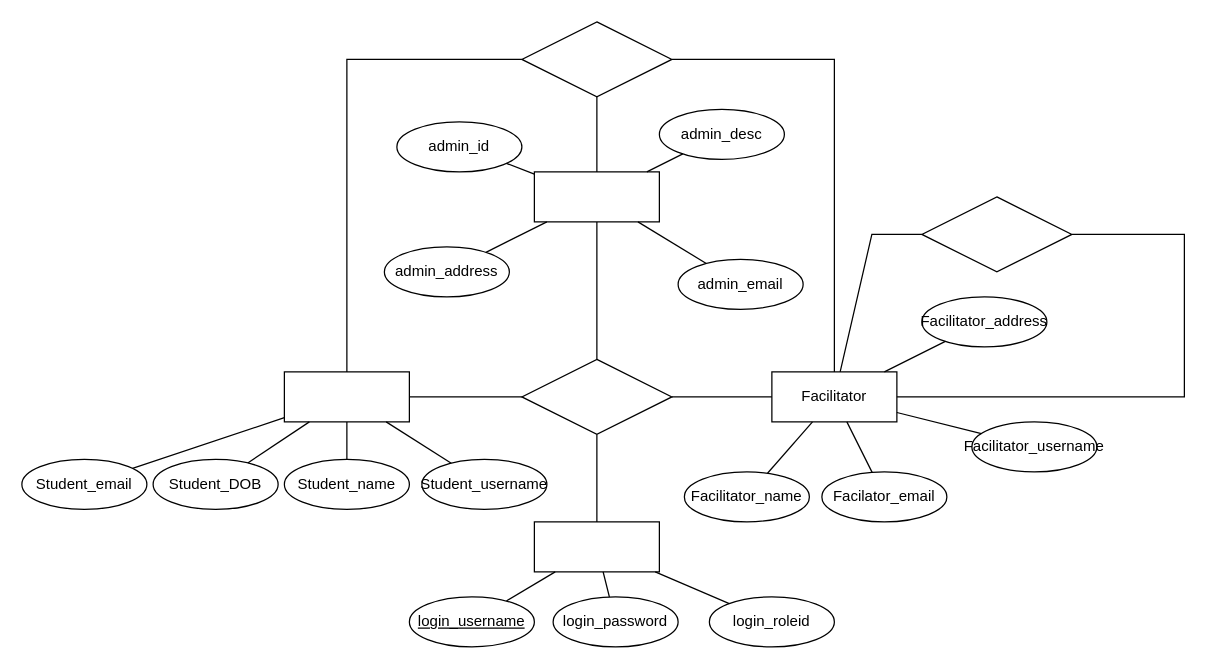
Some shapes in this 1208 by 669 pixel diagram are drawn without their labels. The box of each missing label's shape, as (x1, y1, x2, y2) in pixels:
Admin: (533, 171, 659, 222)
Has: (521, 358, 672, 434)
Login: (533, 521, 659, 572)
Manages: (521, 21, 672, 97)
Student: (283, 371, 409, 422)
updates: (921, 196, 1072, 272)
